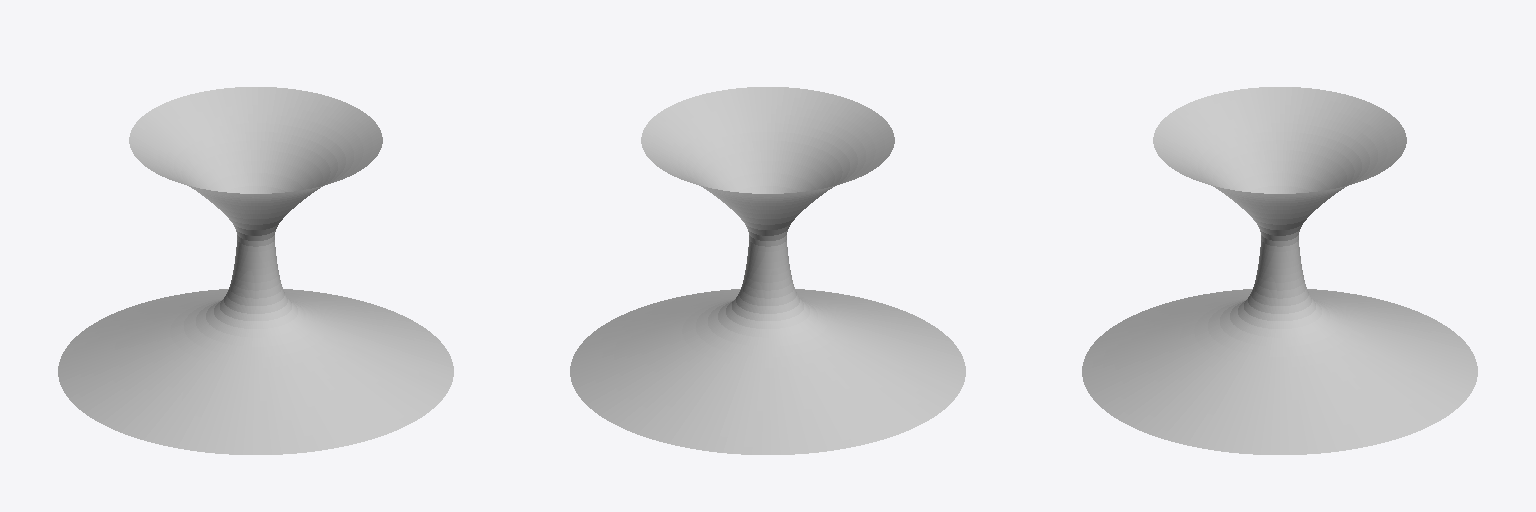
The model's file is Explosion Bottom.obj.
The picture shows the model from 3 angles: view 1: azimuth 30°, elevation 25°; view 2: azimuth 150°, elevation 25°; view 3: azimuth 270°, elevation 25°; orthographic projection.
Visible parts, largest first — view 1: Cylinder; view 2: Cylinder; view 3: Cylinder.
Part boxes in pixels (x1,y1,x2,y2): Cylinder: (58,87,453,454); Cylinder: (570,87,965,454); Cylinder: (1082,87,1477,454).
Size of the model in its own units: 3.1 by 2 by 3.1.